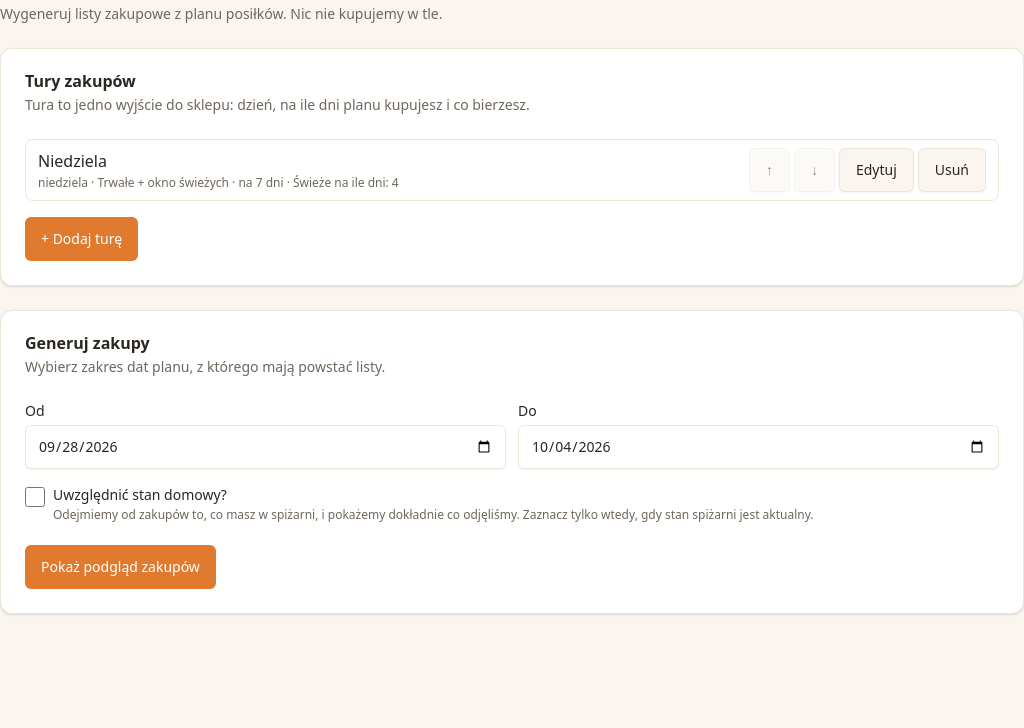
Scenario: ZakupyPage › panel odjęć ze spiżarni pojawia się TYLKO przy use_pantry
Click the button with test id "zakupy-generate". click: {"x": 120, "y": 567}
box: [25, 545, 216, 589]
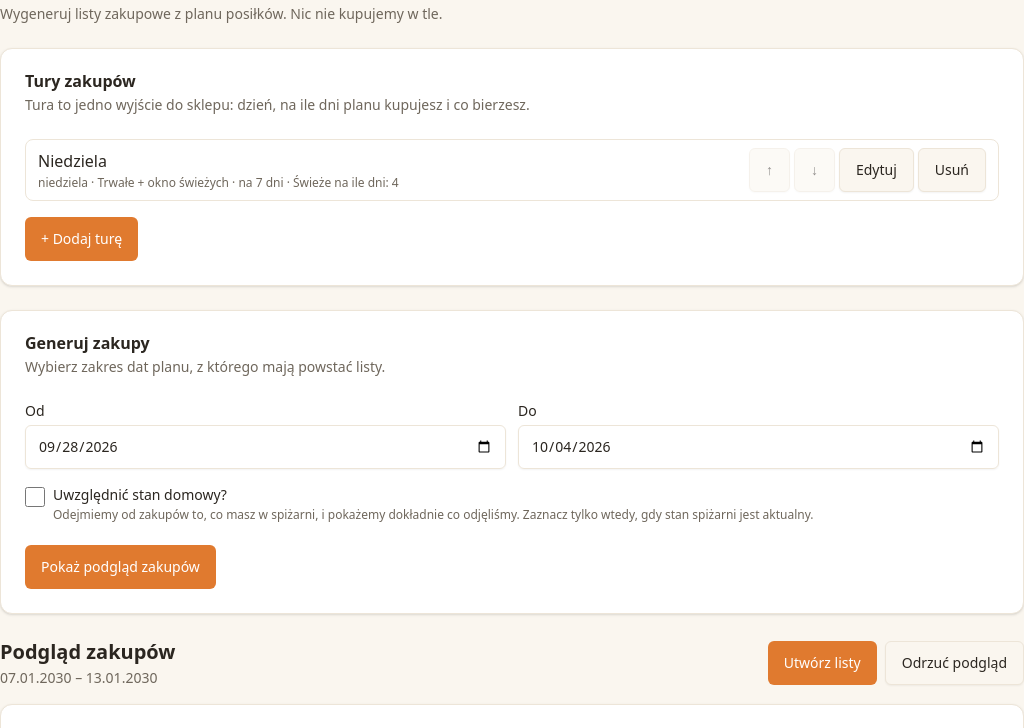
Click the checkbox with test id "zakupy-use-pantry". click: {"x": 35, "y": 497}
box: [25, 487, 45, 507]
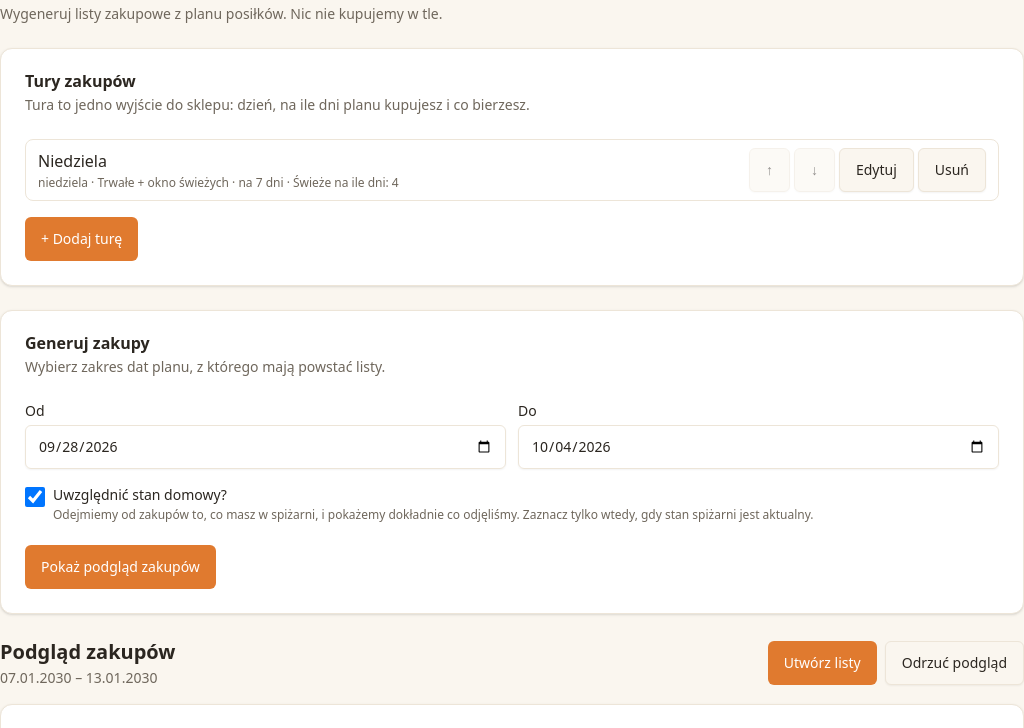
Click the button with test id "zakupy-generate". click: {"x": 120, "y": 567}
box: [25, 545, 216, 589]
(page scrolled)
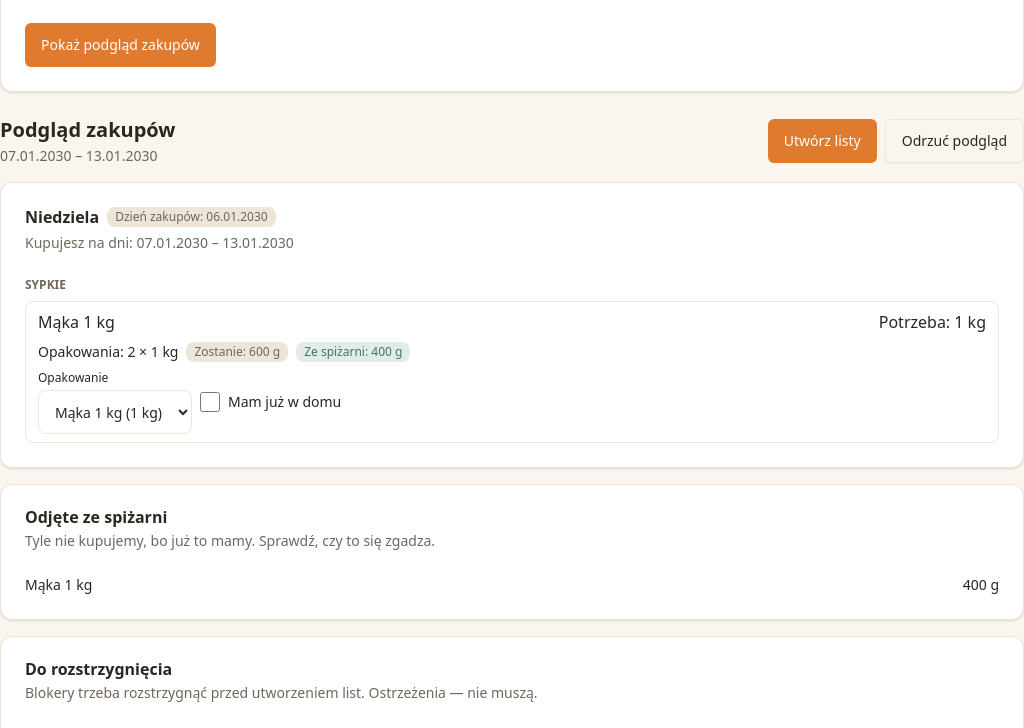
Result: the element with test id "preview-pantry-panel" shows "400 g" at [963, 575, 999, 594]
Result: the text with test id "preview-from-pantry-10" shows "400 g" at [304, 343, 402, 360]
